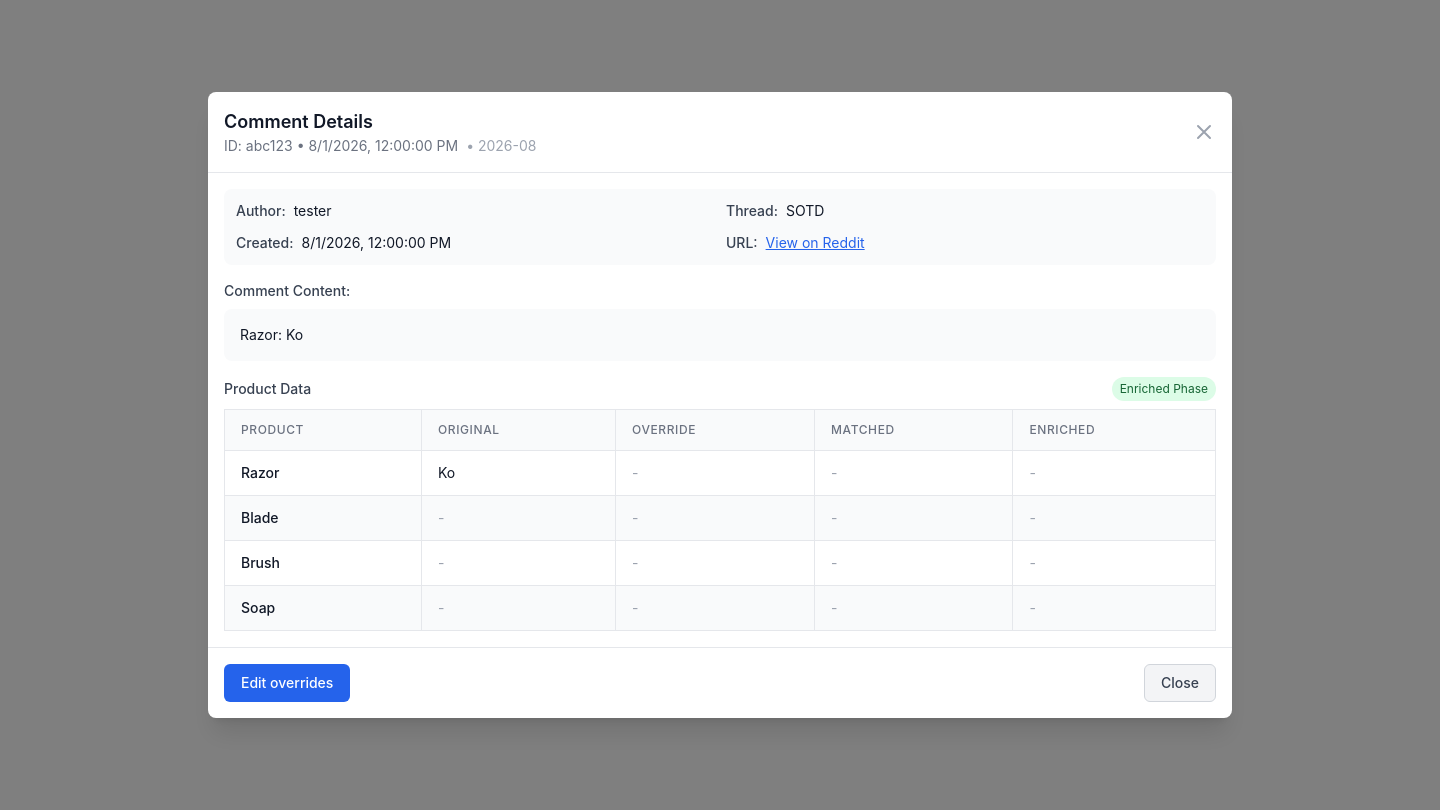
Test: CommentModal extract overrides › shows edit overrides and saves YAML-only message
Click the button "Edit overrides": (287,683) [224, 664, 350, 702]
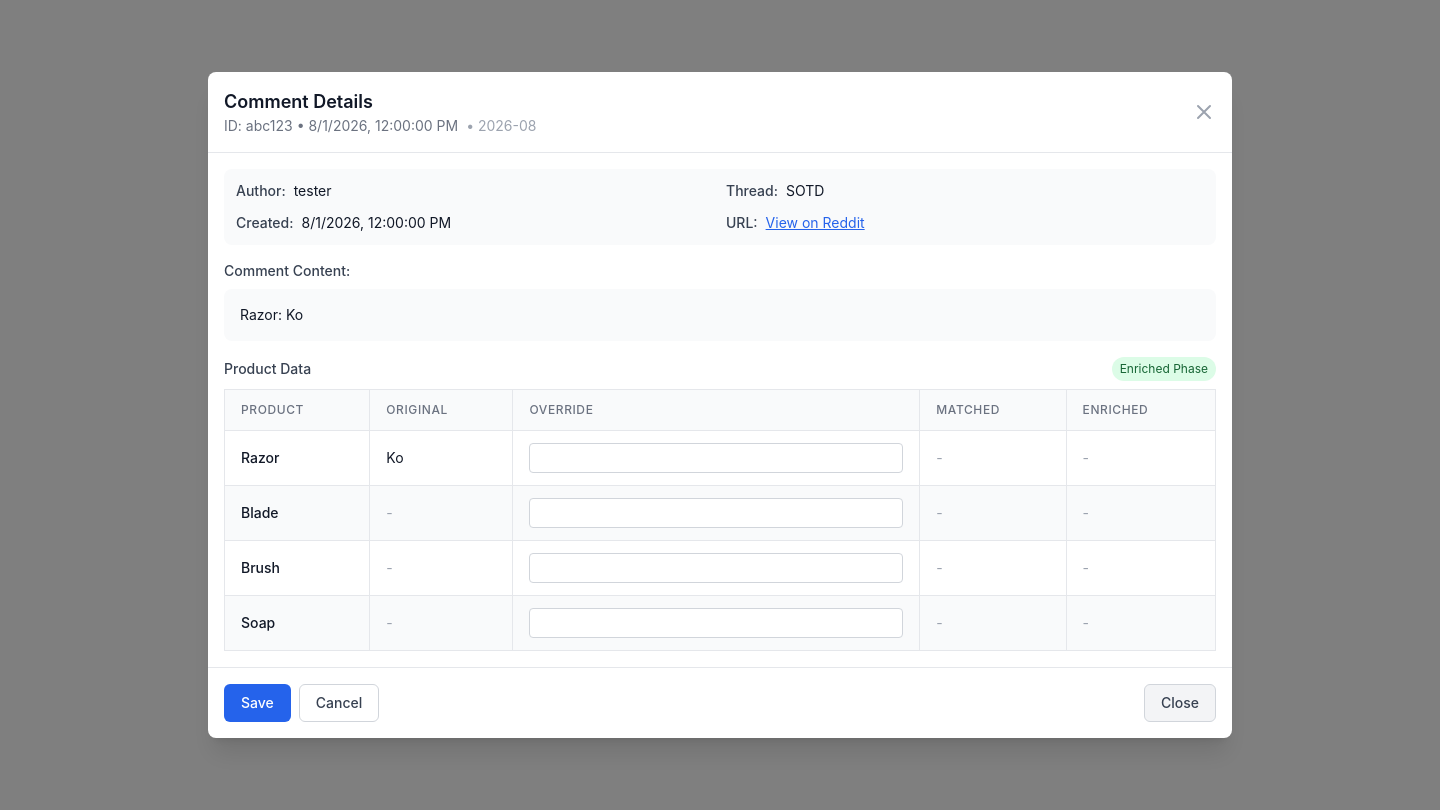
In the field named "razor override": (716,458) [529, 443, 903, 473], type "Koraat"
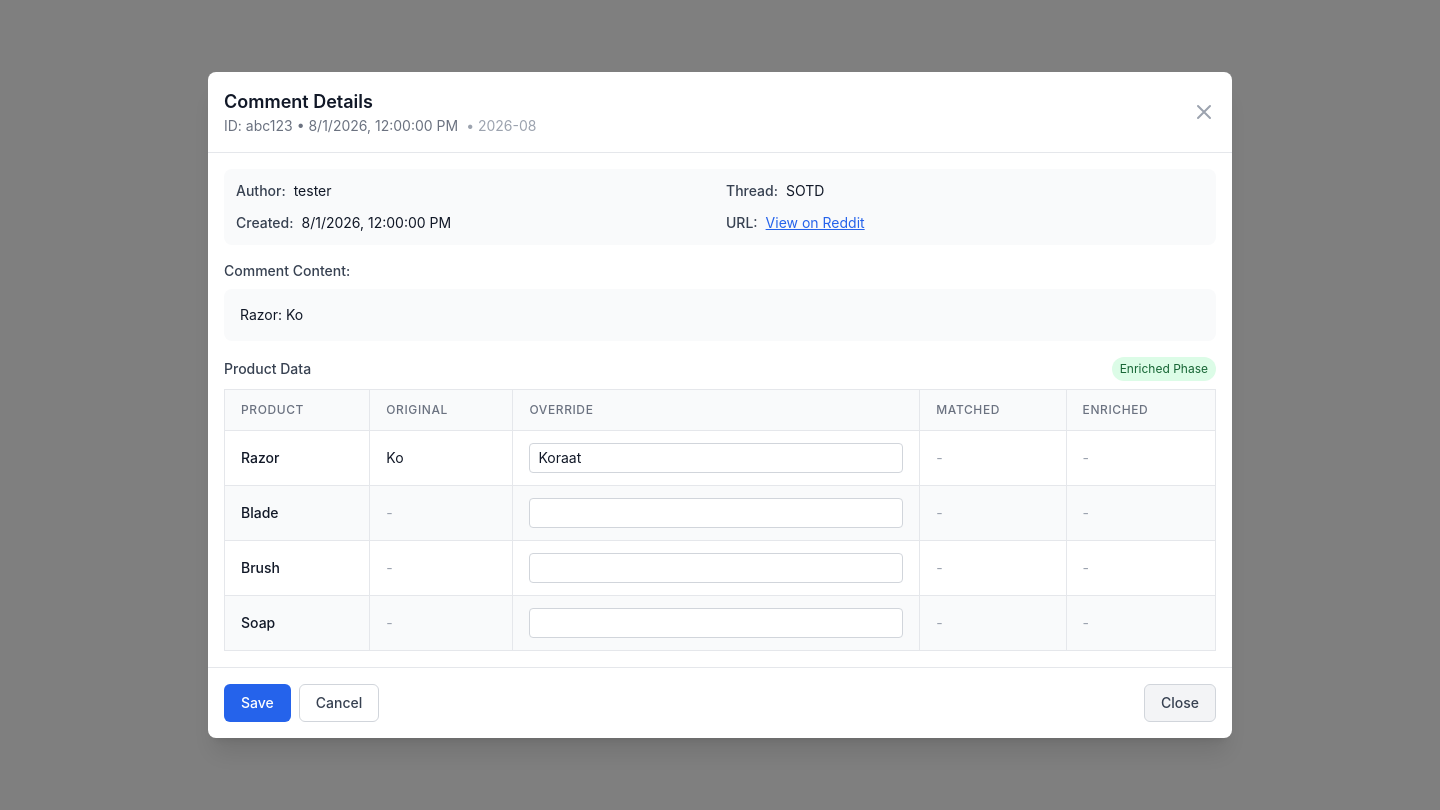
Click the button "Save": (257,703) [224, 684, 291, 722]
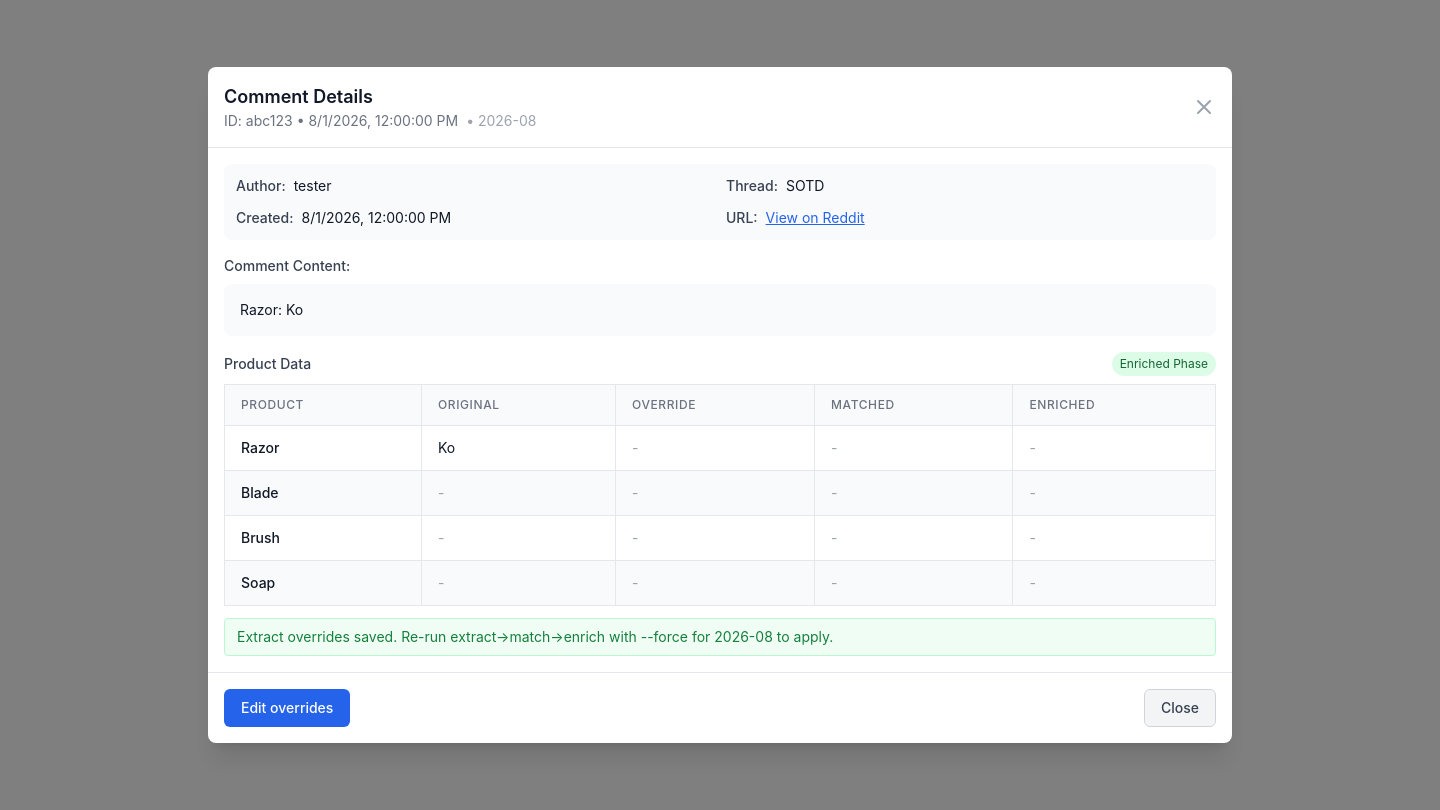
Expected: the text "Re-run extract→match→enrich" is shown, [237, 628, 833, 645]
